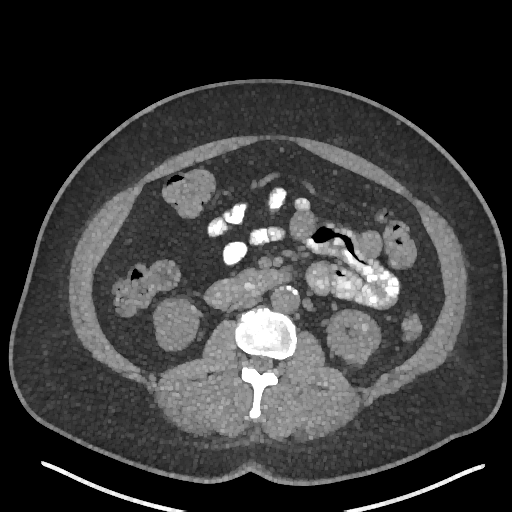Lesion: (361, 323, 371, 333)
